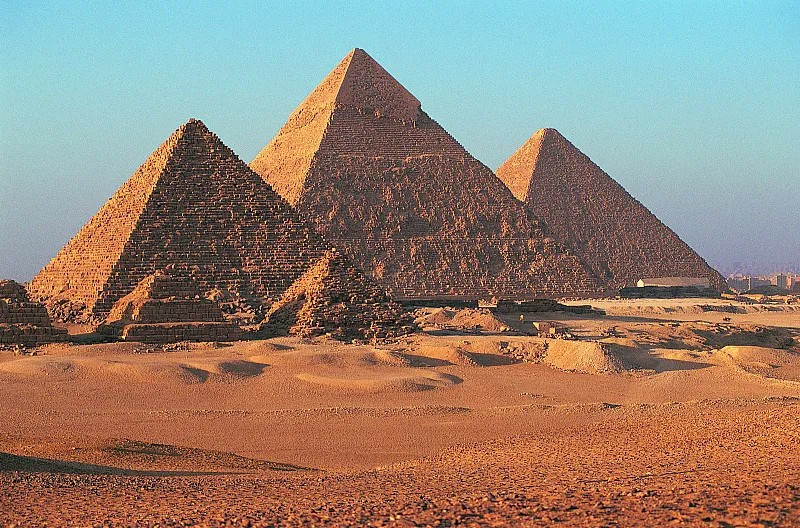Pyramid: (248, 48, 614, 296), (24, 119, 331, 327), (496, 129, 733, 293), (260, 246, 421, 337), (96, 268, 243, 341), (1, 280, 70, 350)
